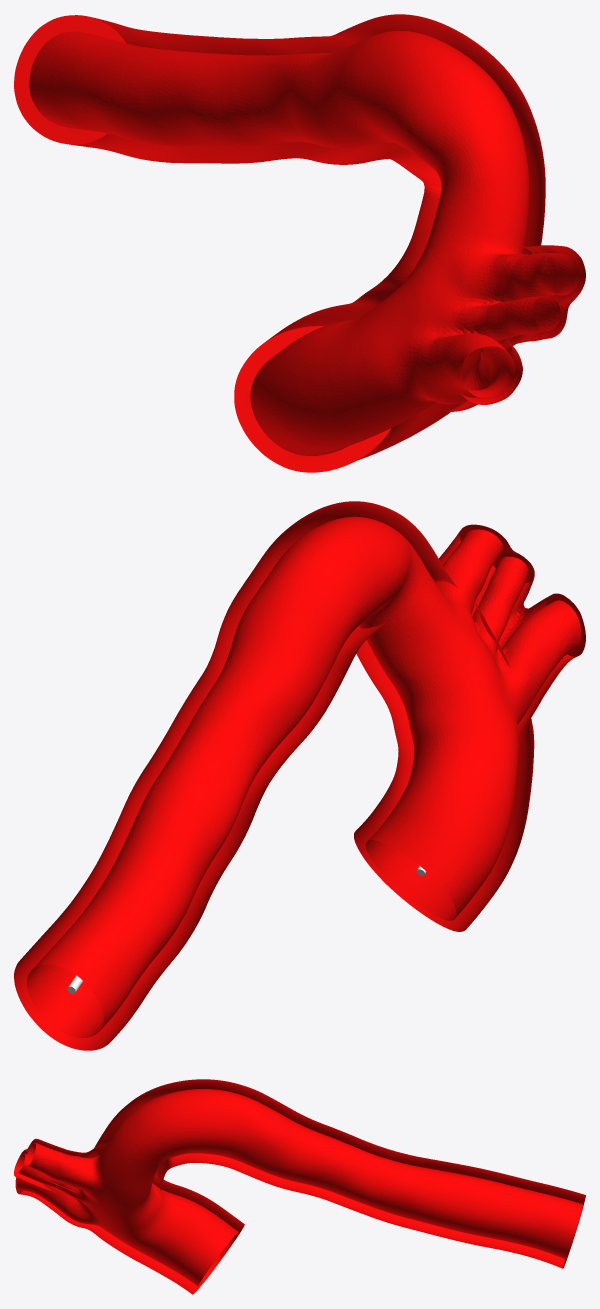
File: miriam_pre_dissection_aorta.gltf
3 renders of one model, top to bottom at view 1: azimuth 30°, elevation 25°; view 2: azimuth 150°, elevation 25°; view 3: azimuth 270°, elevation 25°, orthographic. The views are drawn at different scales.
Visible parts, largest first — view 1: Renderer Node; view 2: Renderer Node; view 3: Renderer Node.
Part boxes in pixels (x1,y1,x2,y2): Renderer Node: (14, 14, 585, 472); Renderer Node: (14, 501, 585, 1050); Renderer Node: (14, 1079, 585, 1294).
Size of the model in its own units: 57.3 by 92.65 by 201.
